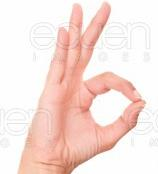left: (30, 1, 148, 169)
